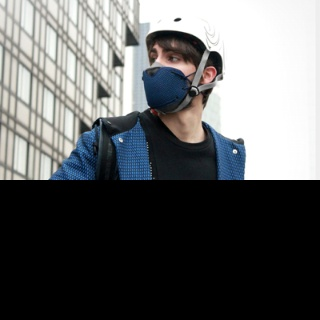with_mask: (142, 46, 197, 113)
